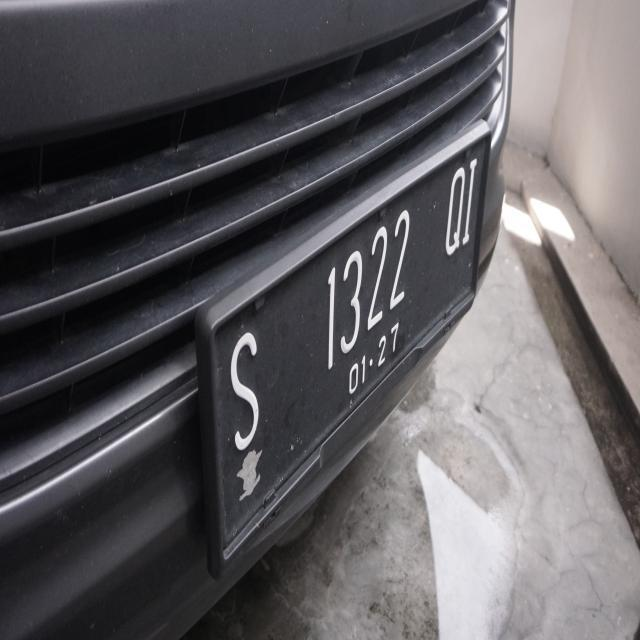1: (308, 252, 341, 386)
2: (386, 206, 414, 316), (367, 221, 384, 331)
3: (336, 240, 361, 362)
I: (458, 150, 476, 260)
Q: (440, 158, 462, 264)
S: (213, 325, 268, 457)
